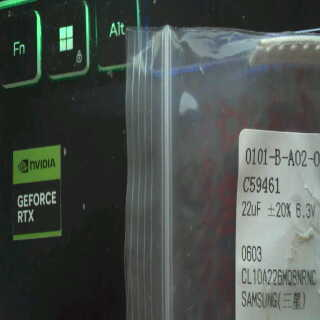22uF: (239, 198, 264, 219)
